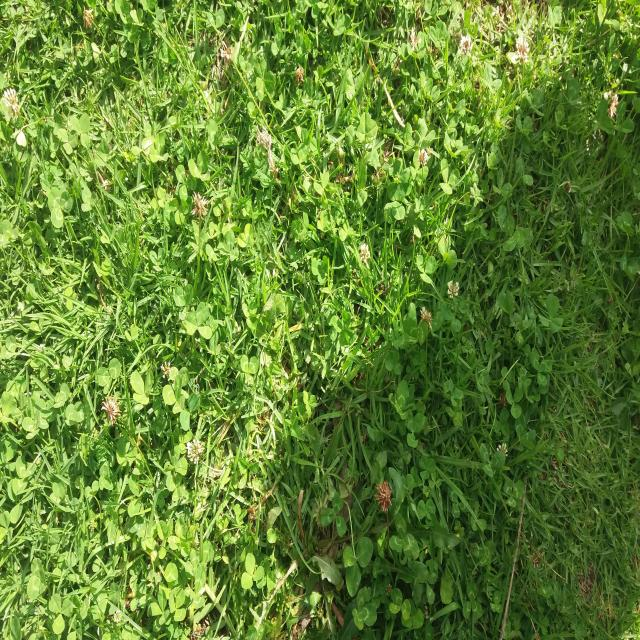Four Leaf Clover: (384, 182, 405, 224)
